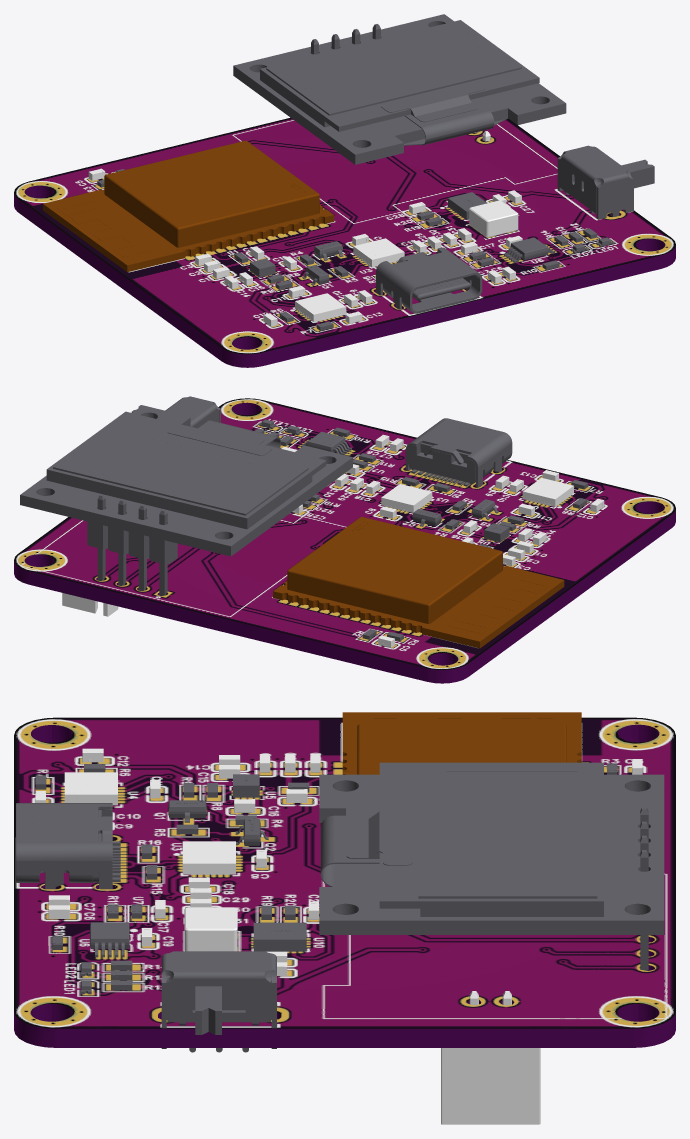
File: board.glb
The picture shows the model from 3 angles, top to bottom: view 1: azimuth 30°, elevation 25°; view 2: azimuth 150°, elevation 25°; view 3: azimuth 270°, elevation 25°; orthographic projection. The views are drawn at different scales.
Visible parts, largest first — view 1: Board-mesh, U1-mesh (×8), U2-mesh, USBC1-mesh, SW1-mesh (×2), L2-mesh, U4-mesh, U3-mesh, U6-mesh, U10-mesh; view 2: Board-mesh, U1-mesh (×10), U2-mesh, USBC1-mesh, SW1-mesh, U4-mesh, U3-mesh, U6-mesh, CN1-mesh; view 3: Board-mesh, U1-mesh (×9), U2-mesh, SW1-mesh (×3), USBC1-mesh, CN1-mesh, L2-mesh, U3-mesh, U4-mesh, U10-mesh, U6-mesh, Q1-mesh (+1 smaller).
Part boxes in pixels (x1,y1,x2,y2): Board-mesh: (14,117,675,367); U1-mesh (×8): (233,14,566,164); U2-mesh: (43,140,334,272); USBC1-mesh: (376,247,482,313); SW1-mesh (×2): (557,145,654,219); L2-mesh: (469,200,518,237); U4-mesh: (295,293,346,322); U3-mesh: (353,238,404,267); U6-mesh: (504,237,554,263); U10-mesh: (448,192,486,219); Board-mesh: (14,398,675,683); U1-mesh (×10): (20,406,352,564); U2-mesh: (273,516,564,648); USBC1-mesh: (405,418,512,487); SW1-mesh: (164,396,220,428); U4-mesh: (522,478,573,506); U3-mesh: (381,484,432,512); U6-mesh: (301,431,351,454); CN1-mesh: (62,593,118,616); Board-mesh: (14,717,675,1047); U1-mesh (×9): (319,762,664,934); U2-mesh: (342,712,581,774); SW1-mesh (×3): (161,951,276,1052); USBC1-mesh: (16,803,120,889); CN1-mesh: (441,991,540,1124); L2-mesh: (184,907,237,951); U3-mesh: (182,841,235,874); U4-mesh: (64,772,117,805); U10-mesh: (253,922,306,951); U6-mesh: (90,922,129,957); Q1-mesh: (168,800,206,818).
Bounding box in the file's own units: 0.0594 × 0.0184 × 0.0499.
6 materials, 2 textured.
